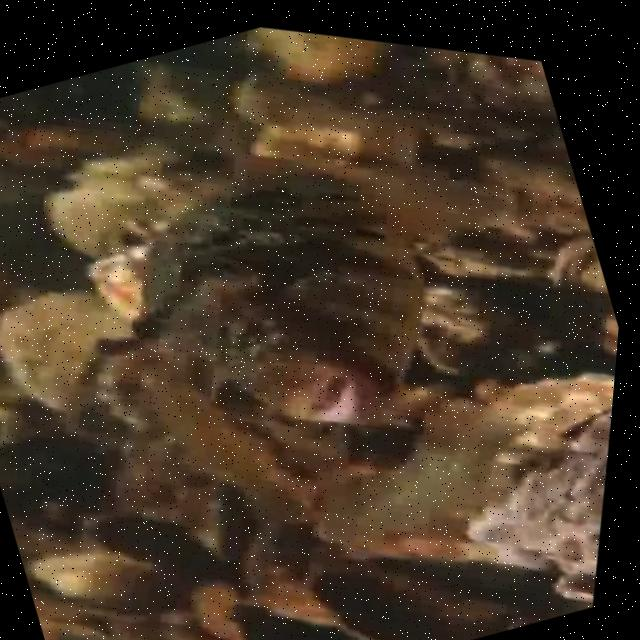Oyster-Closed: (28, 555, 187, 606)
Oyster-Indeterminate: (239, 518, 476, 626), (470, 418, 609, 595), (238, 68, 404, 160), (0, 288, 122, 406), (538, 232, 619, 360), (49, 182, 152, 257), (254, 27, 389, 84), (451, 54, 552, 113), (86, 255, 146, 319), (66, 155, 156, 186)
Oyster-Open: (229, 416, 328, 499), (115, 216, 166, 258)
